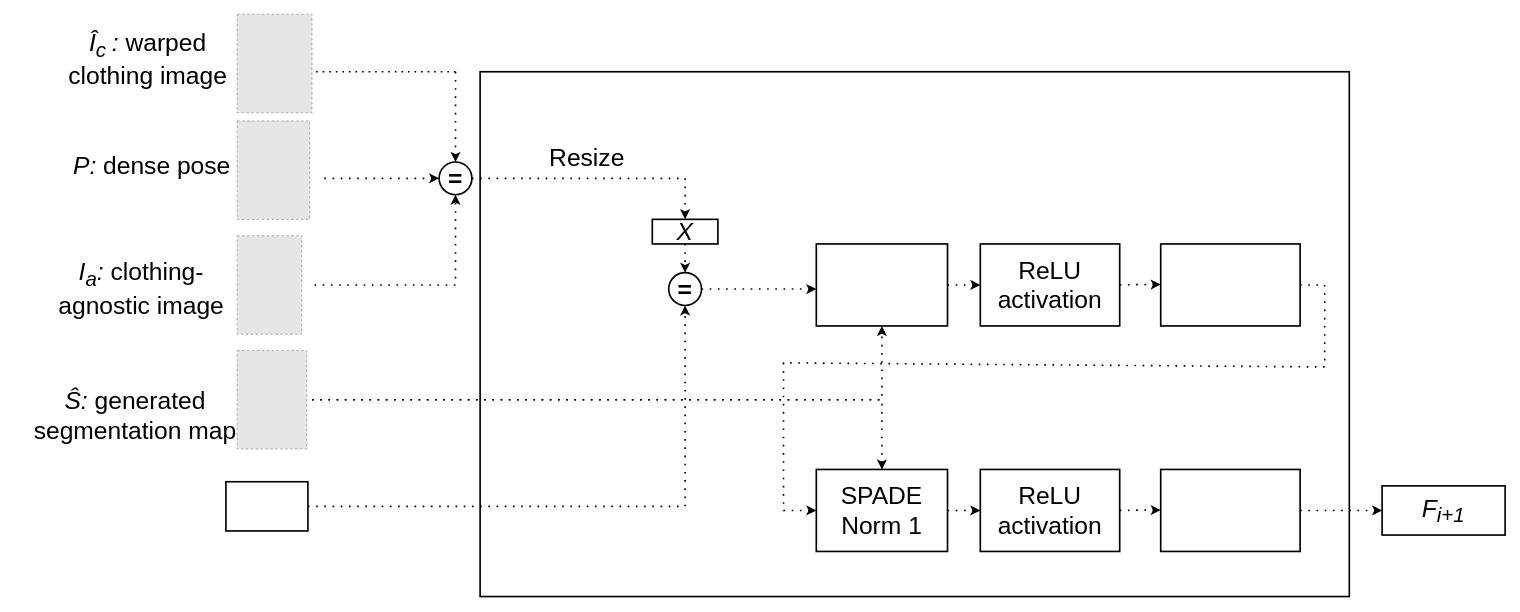
The diagram is 1520 pixels wide and 612 high, and some of its shapes have lost their labels. Grey dashed boxes stand in for pictures. The centre of each missing label's shape, as x and y in pixels:
"Convolution 0" goes at (x=1230, y=284).
"Convolution 1" goes at (x=1230, y=510).
"F i-1" goes at (x=266, y=506).
"SPADE Norm 0" goes at (x=881, y=284).
